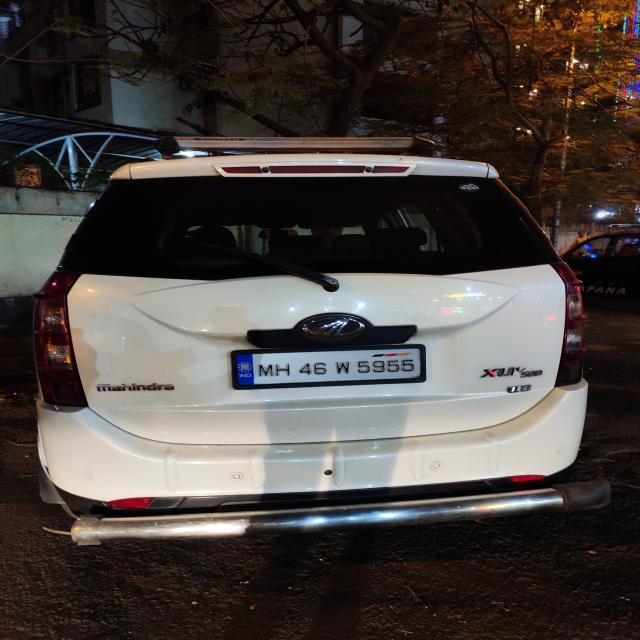Number-Plate: (231, 350, 422, 390)
